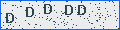D: (77, 5, 86, 15), (6, 13, 14, 23), (26, 7, 34, 17), (44, 4, 52, 14), (65, 5, 73, 15)
